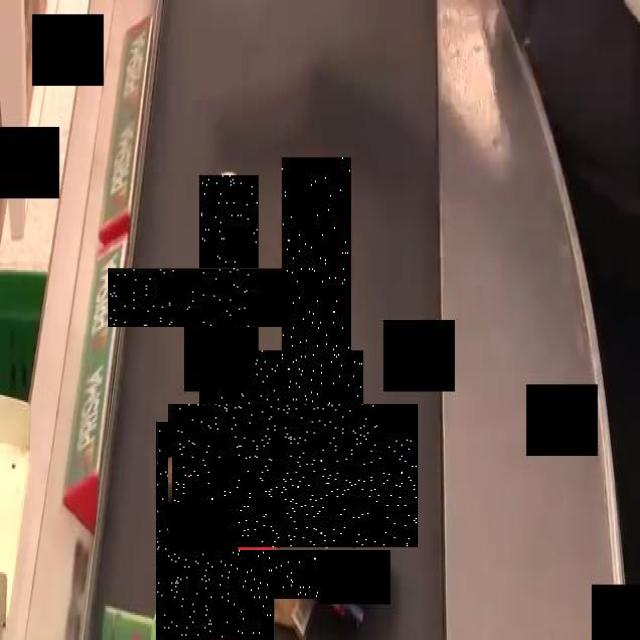beverage: (154, 222, 304, 373), (282, 159, 351, 472)
food-box: (194, 378, 392, 577), (156, 422, 274, 640)
